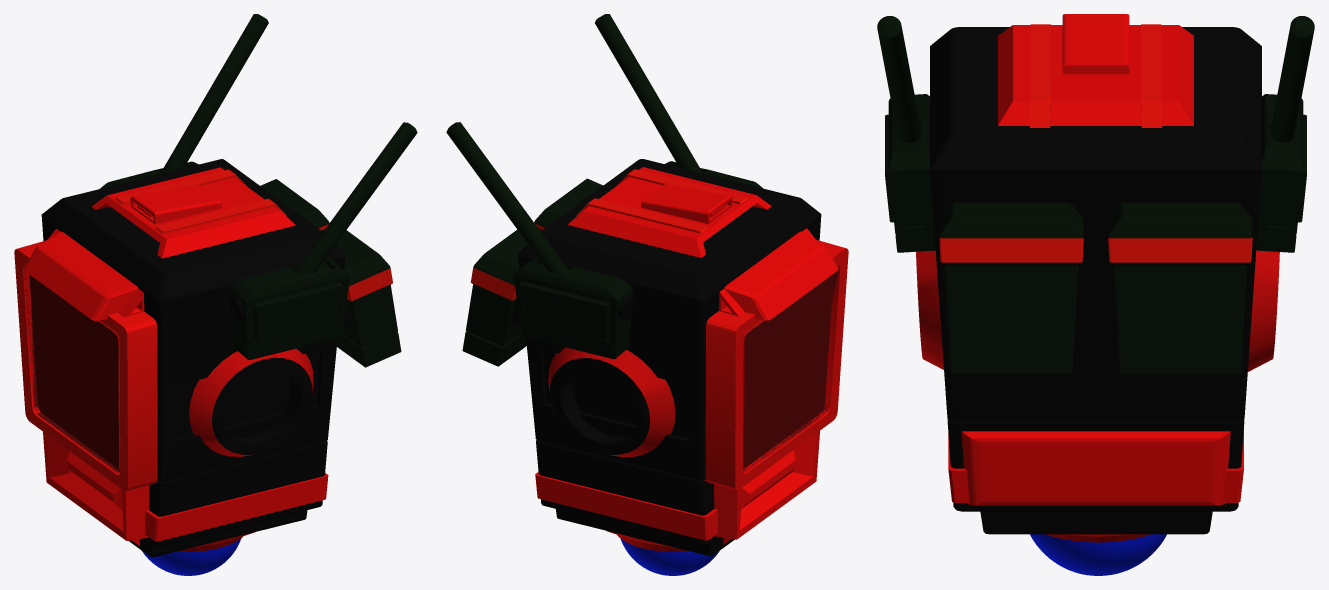
Rendered from cuerpo.fbx.
The picture shows the model from 3 angles, left to right: view 1: azimuth 30°, elevation 25°; view 2: azimuth 150°, elevation 25°; view 3: azimuth 270°, elevation 25°; orthographic projection. The views are drawn at different scales.
Parts seen in each view (by area): view 1: Cube.001; view 2: Cube.001; view 3: Cube.001.
Boxes of the visible parts, x1,y1,x2,y2 form: Cube.001: (14, 14, 417, 575); Cube.001: (446, 14, 848, 575); Cube.001: (877, 14, 1314, 575).
Size of the model in its own units: 278 by 426 by 261.
